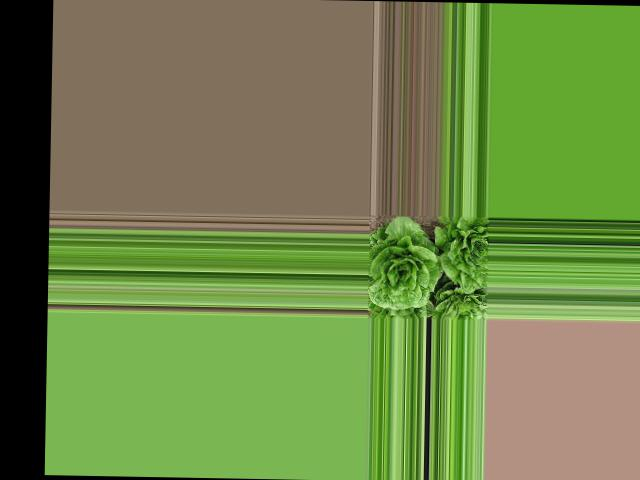lettuce: (440, 218, 490, 294)
